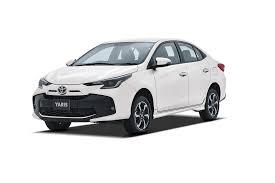Sedan: (23, 17, 240, 150)
